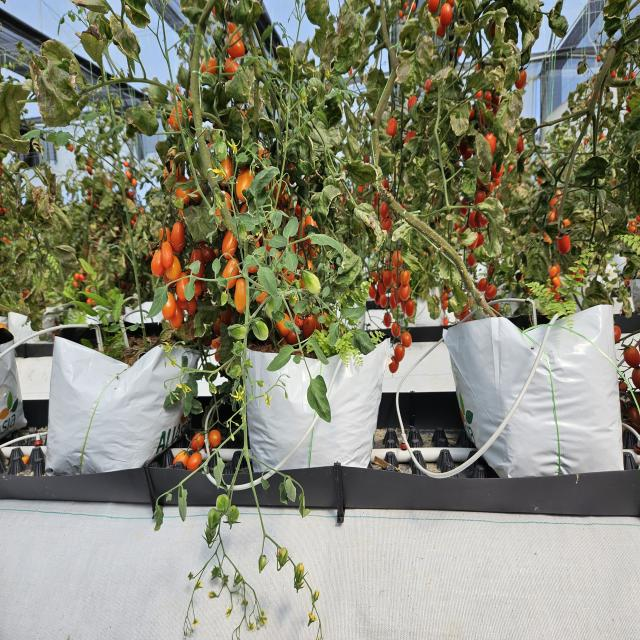Soilbag: (442, 291, 625, 476), (41, 326, 198, 470), (248, 338, 386, 472)
plant: (165, 10, 377, 334), (356, 0, 568, 317)
